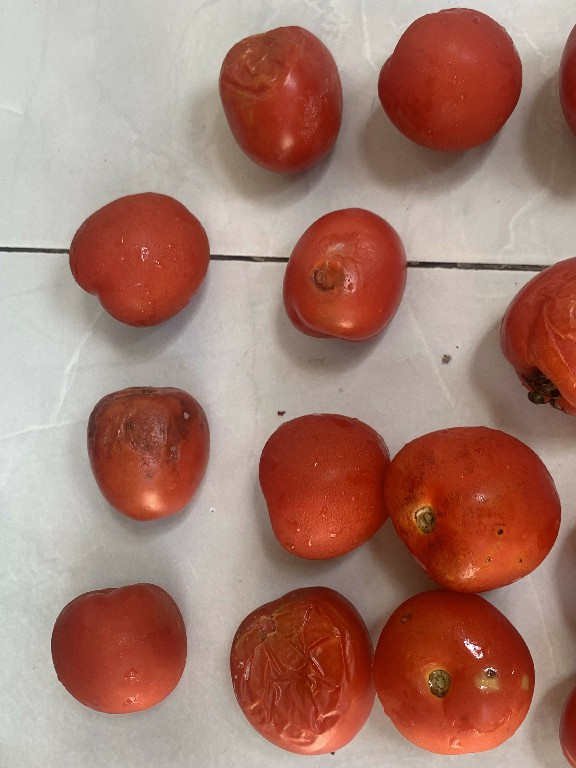NG: (386, 410, 569, 598), (364, 592, 543, 763), (224, 578, 380, 765), (212, 18, 352, 184), (276, 196, 421, 353), (81, 372, 212, 528), (495, 251, 576, 421)
OK: (368, 3, 534, 170), (250, 398, 392, 569), (59, 182, 219, 332), (45, 578, 202, 727)
